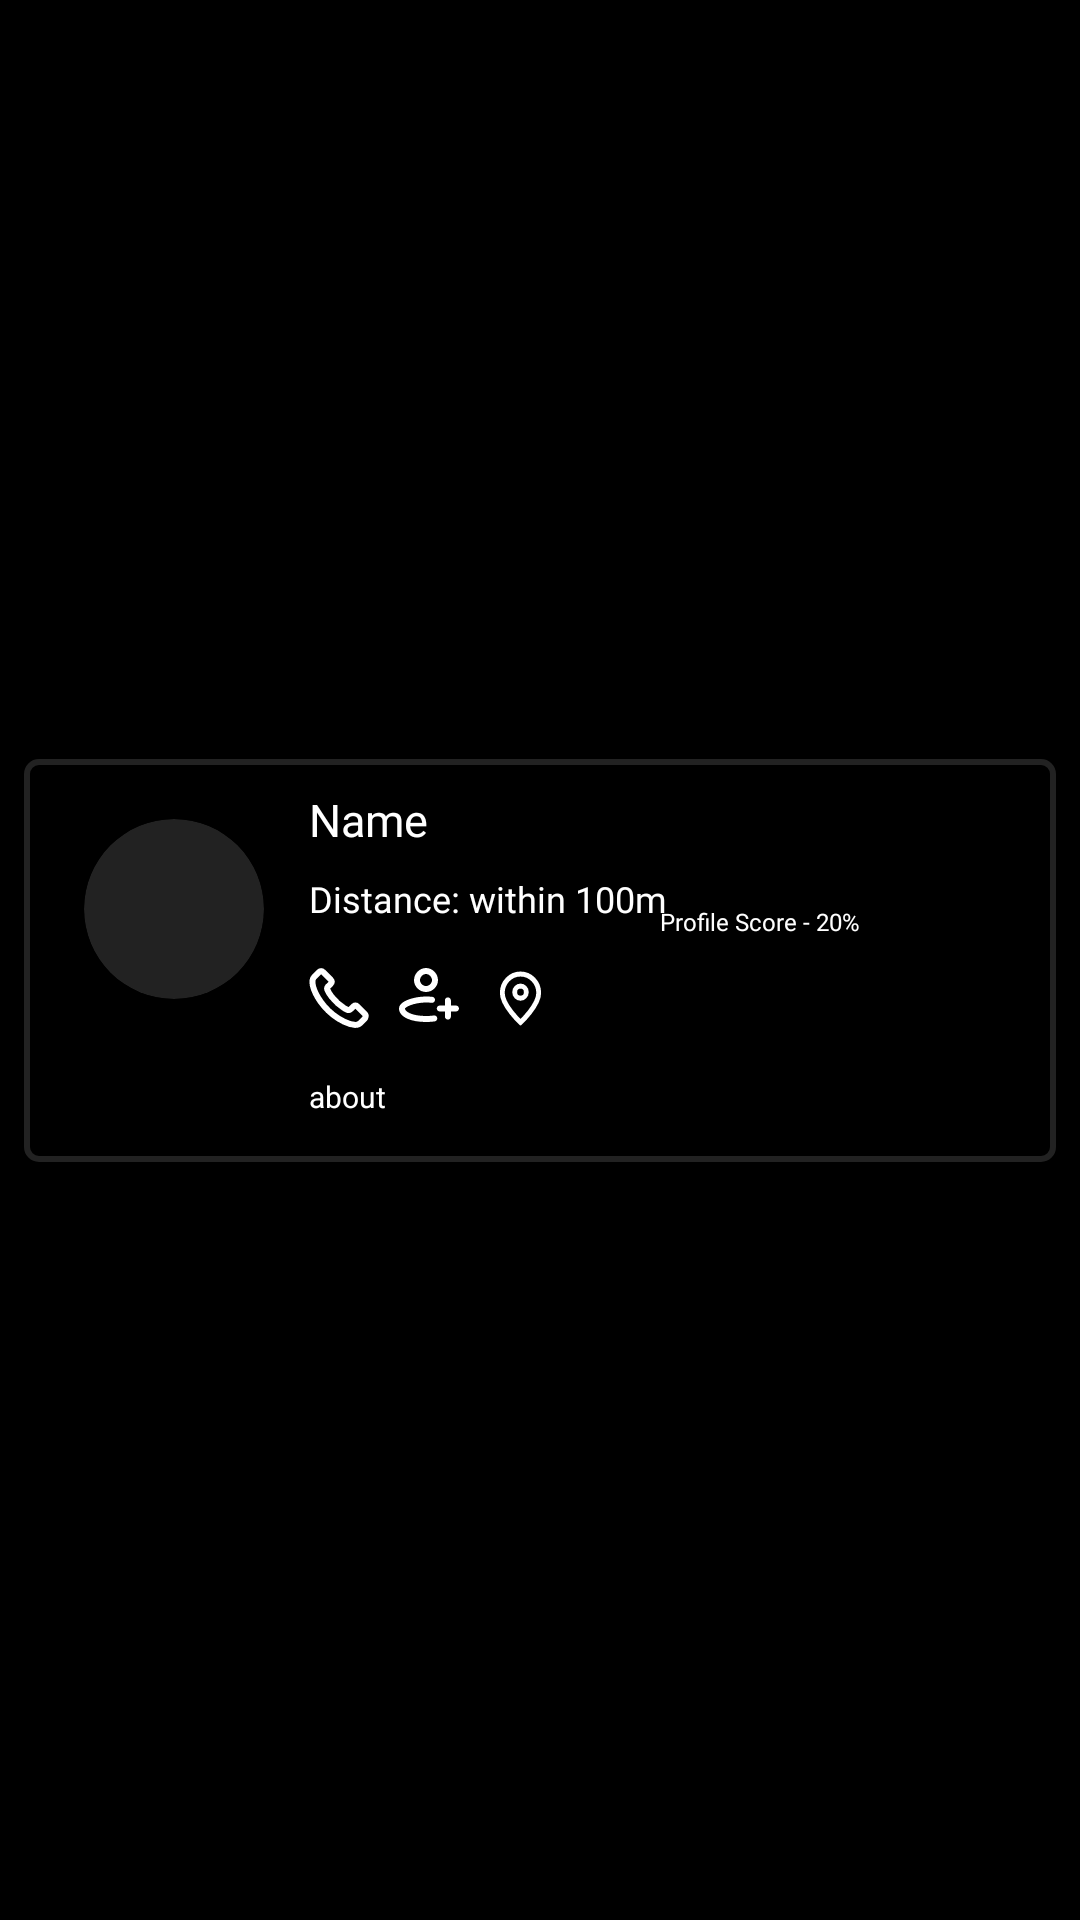

Icon bounding boxes for this 1080*1920 phone screenshot, format region(x1, y1, x2, y2):
marker: region(500, 971, 541, 1026)
phone: region(309, 968, 369, 1028)
